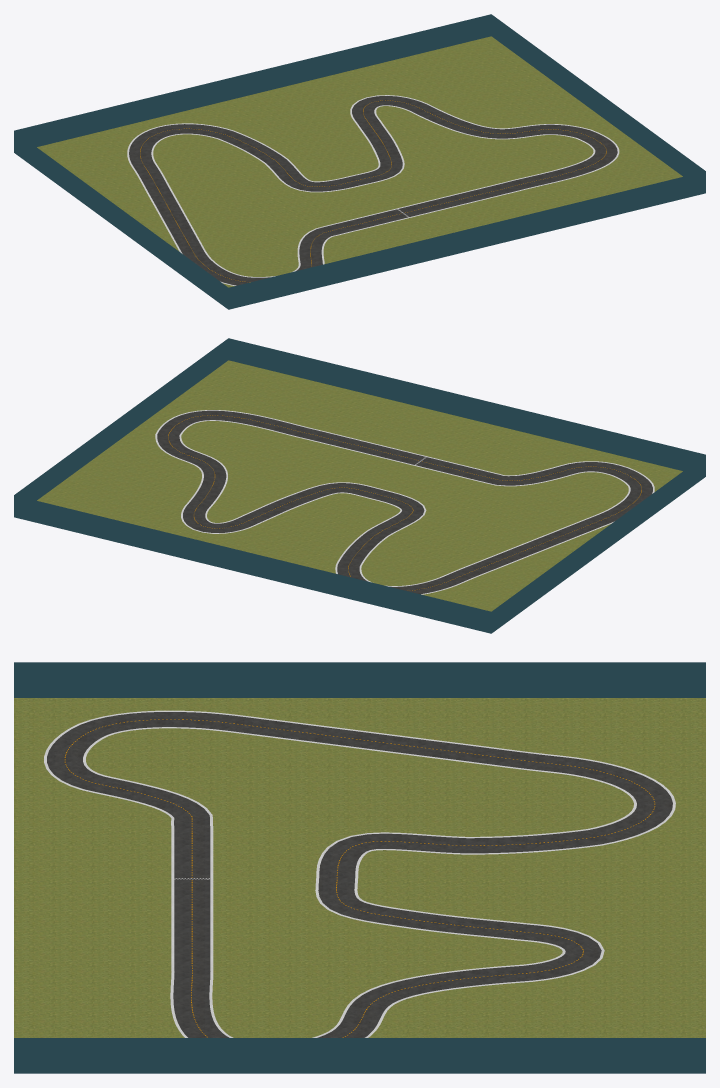
File: penbay_open_ccw.dae
3 renders of one model, top to bottom at view 1: azimuth 30°, elevation 25°; view 2: azimuth 150°, elevation 25°; view 3: azimuth 270°, elevation 25°, orthographic. The views are drawn at different scales.
Visible parts, largest first — view 1: field, wall, road, ol, il, cl; view 2: field, wall, road, ol, il, cl; view 3: field, wall, road, il, ol, cl.
Part boxes in pixels (x1=…): field: x1=37, y1=36, x2=682, y2=287; wall: x1=14, y1=14, x2=705, y2=309; road: x1=129, y1=96, x2=617, y2=285; ol: x1=151, y1=105, x2=595, y2=277; il: x1=127, y1=95, x2=619, y2=285; cl: x1=140, y1=100, x2=606, y2=282; field: x1=37, y1=360, x2=682, y2=611; wall: x1=14, y1=338, x2=705, y2=633; road: x1=157, y1=410, x2=652, y2=594; ol: x1=179, y1=420, x2=630, y2=586; il: x1=155, y1=410, x2=654, y2=594; cl: x1=168, y1=415, x2=641, y2=590; field: x1=14, y1=698, x2=705, y2=1037; wall: x1=14, y1=662, x2=705, y2=1073; road: x1=47, y1=712, x2=672, y2=1037; il: x1=44, y1=710, x2=675, y2=1037; ol: x1=83, y1=727, x2=636, y2=1037; cl: x1=64, y1=719, x2=655, y2=1037.
Size of the model in its own units: 22.59 by 17.58 by 1.
7 materials, 7 textured.
